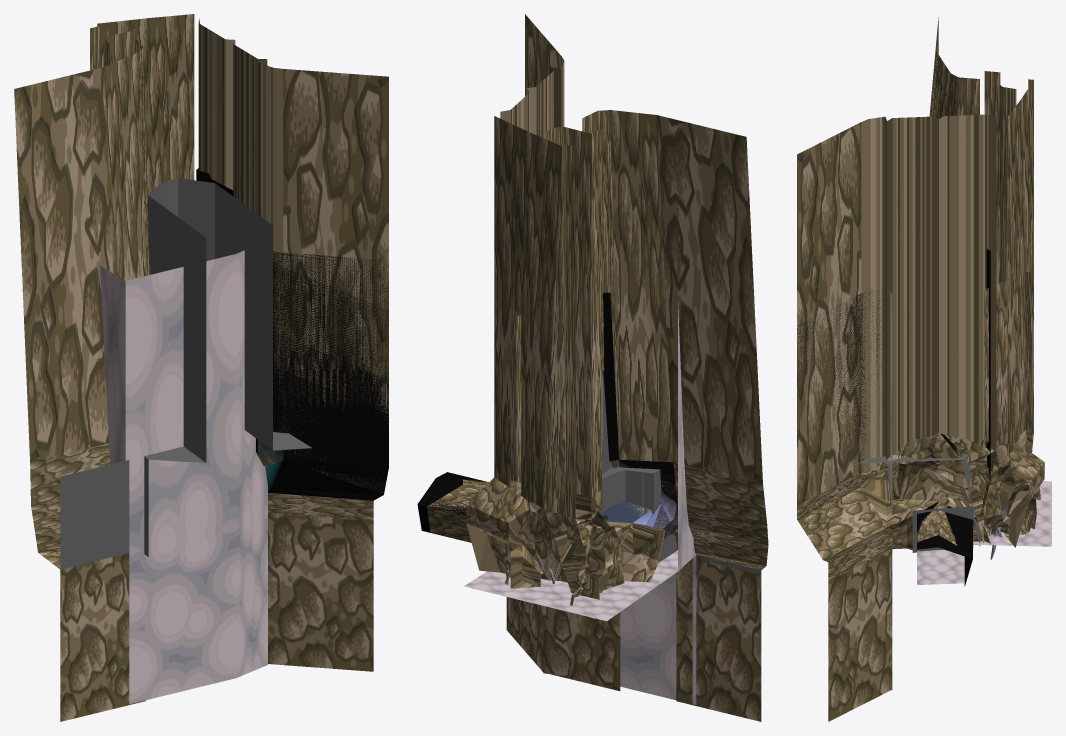
The model's file is jin_09.dae.
The picture shows the model from 3 angles, left to right: view 1: azimuth 30°, elevation 25°; view 2: azimuth 150°, elevation 25°; view 3: azimuth 270°, elevation 25°; orthographic projection. The views are drawn at different scales.
Parts seen in each view (by area): view 1: S_iwa03, S_iwa08, a_gawa01, a_gawa02, pPlane8_q00000, a_gawa03, S_iwa06, a_gawa05, S_iwa07; view 2: S_iwa08, S_iwa06, S_iwa03, S_iwa07, pPlane8_q00000, a_gawa04, S_iwa010, a_gawa03, a_gawa01, a_gawa02, S_iwa09; view 3: S_iwa03, S_iwa010, S_iwa06, a_gawa02, S_iwa07, pPlane8_q00000, S_iwa08, a_gawa01, a_gawa03, e_bero.
Boxes of the visible parts, x1,y1,x2,y2 form: S_iwa03: (198, 19, 388, 671); S_iwa08: (14, 38, 149, 721); a_gawa01: (100, 250, 267, 552); a_gawa02: (196, 167, 388, 500); pPlane8_q00000: (129, 513, 268, 704); a_gawa03: (144, 178, 311, 556); S_iwa06: (90, 14, 194, 196); a_gawa05: (60, 460, 129, 569); S_iwa07: (104, 23, 134, 66); S_iwa08: (582, 110, 768, 721); S_iwa06: (466, 116, 605, 599); S_iwa03: (427, 14, 620, 691); S_iwa07: (546, 127, 608, 545); pPlane8_q00000: (464, 550, 696, 704); a_gawa04: (600, 292, 677, 542); S_iwa010: (510, 309, 540, 588); a_gawa03: (584, 274, 677, 562); a_gawa01: (473, 301, 696, 620); a_gawa02: (417, 472, 488, 532); S_iwa09: (570, 526, 624, 605); S_iwa03: (797, 114, 996, 721); S_iwa010: (967, 271, 1036, 543); S_iwa06: (1002, 79, 1044, 547); a_gawa02: (797, 249, 991, 586); S_iwa07: (984, 71, 1016, 283); pPlane8_q00000: (917, 481, 1051, 584); S_iwa08: (929, 17, 979, 118); a_gawa01: (888, 292, 1051, 584); a_gawa03: (858, 455, 980, 546); e_bero: (912, 506, 973, 552).
Size of the model in its own units: 65.08 by 121 by 48.98.
